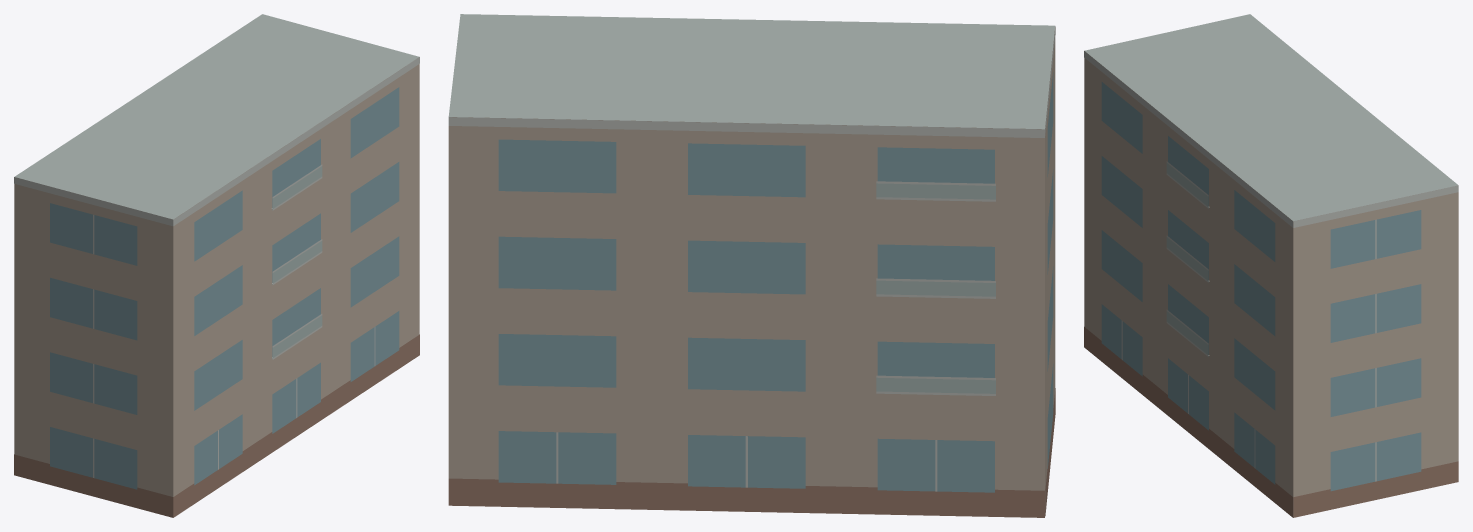
File: survey-upis-32891994.glb
3 renders of one model, left to right at view 1: azimuth 30°, elevation 25°; view 2: azimuth 150°, elevation 25°; view 3: azimuth 270°, elevation 25°, orthographic. The views are drawn at different scales.
Visible parts, largest first — view 1: survey-upis-32891994.tmp; view 2: survey-upis-32891994.tmp; view 3: survey-upis-32891994.tmp.
Part boxes in pixels (<box>): survey-upis-32891994.tmp: <box>14,14,419,517</box>; survey-upis-32891994.tmp: <box>448,14,1055,517</box>; survey-upis-32891994.tmp: <box>1084,14,1458,517</box>.
Size of the model in its own units: 15.89 by 10.6 by 12.14.
